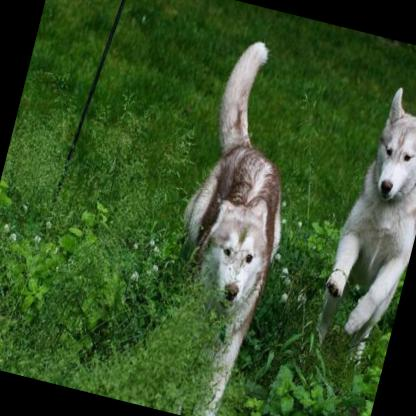Siberian_husky: (134, 30, 326, 416), (311, 80, 416, 368)
